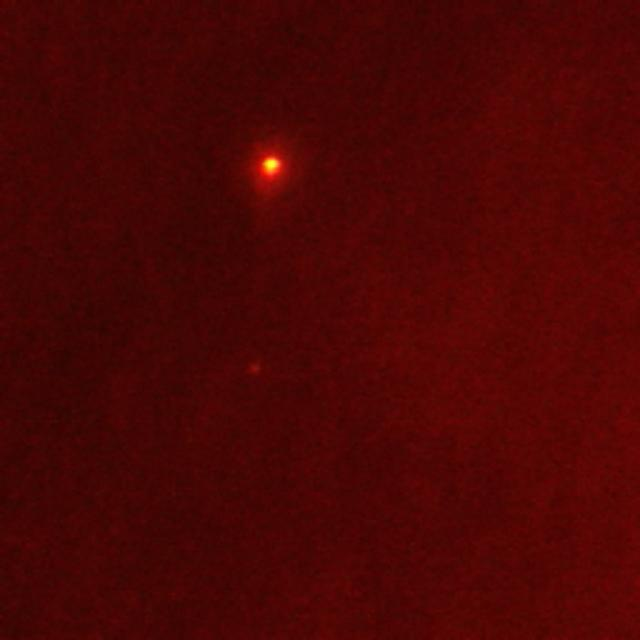Fragment: (260, 157, 282, 177)
